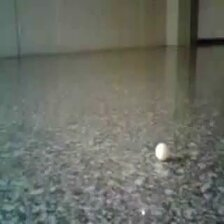w: (154, 142, 169, 160)
